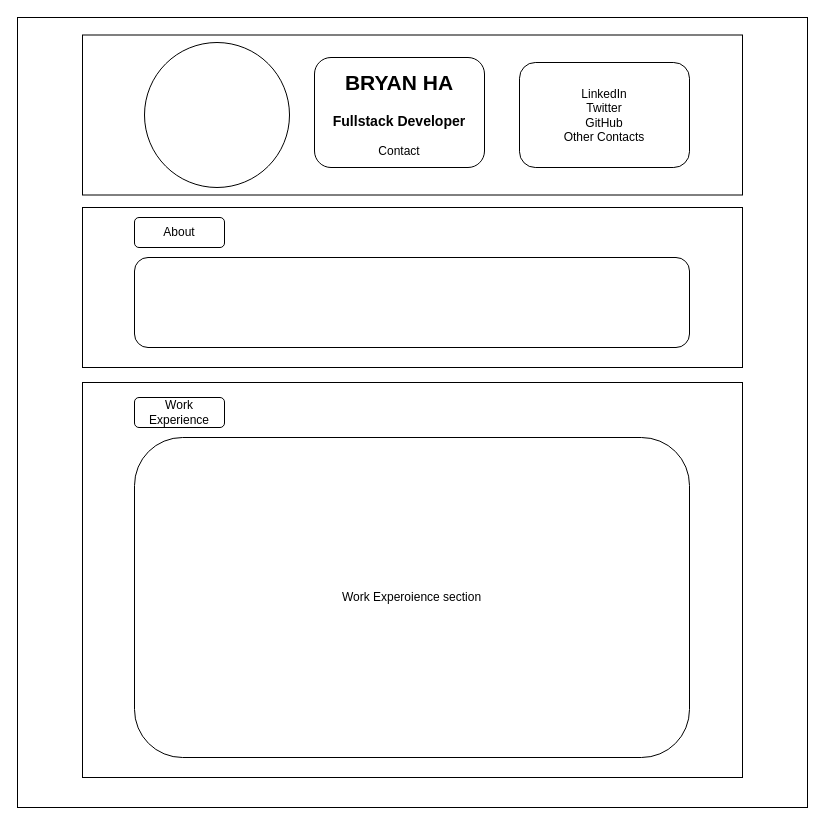
The diagram is 825 pixels wide and 825 high, and some of its shapes have lost their labels. The box of each missing label's shape, as (x1, y1, x2, y2) in pixels:
About Me section: (134, 256, 690, 348)
PFP: (144, 42, 290, 188)
